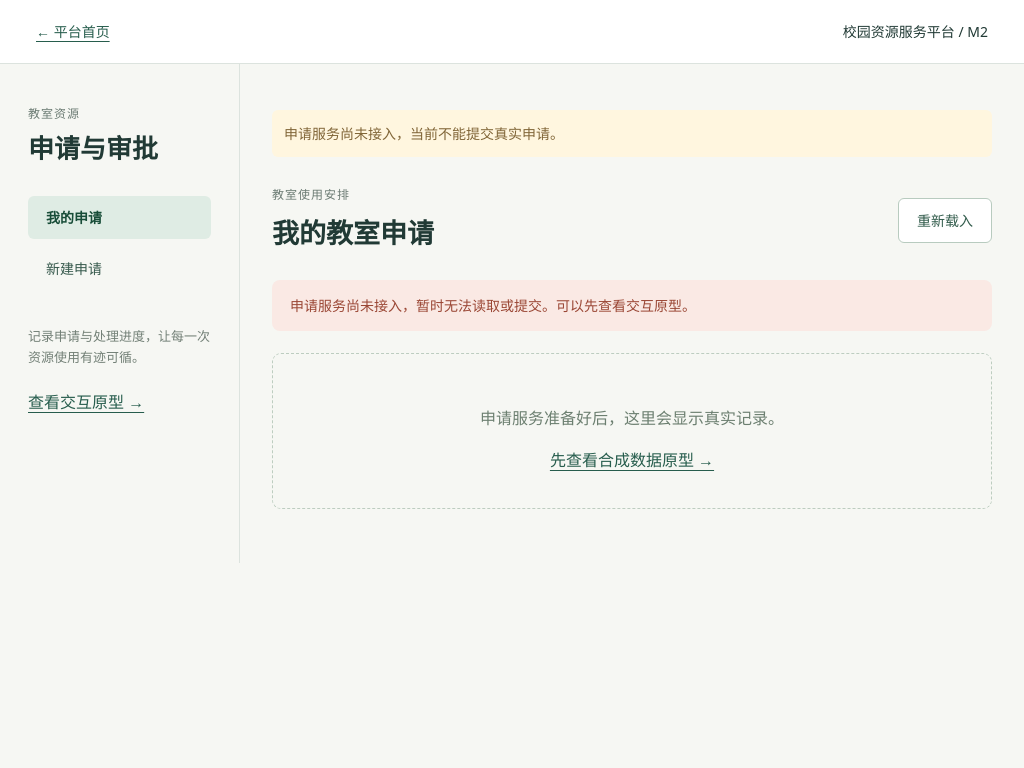
Scenario: M2 workspace observable behavior › does not silently fall back to fixtures when real integration is unconfigured
The width and height of the screenshot is (1024, 768).
Click the button "新建申请". click: (120, 268)
box: [28, 247, 211, 290]
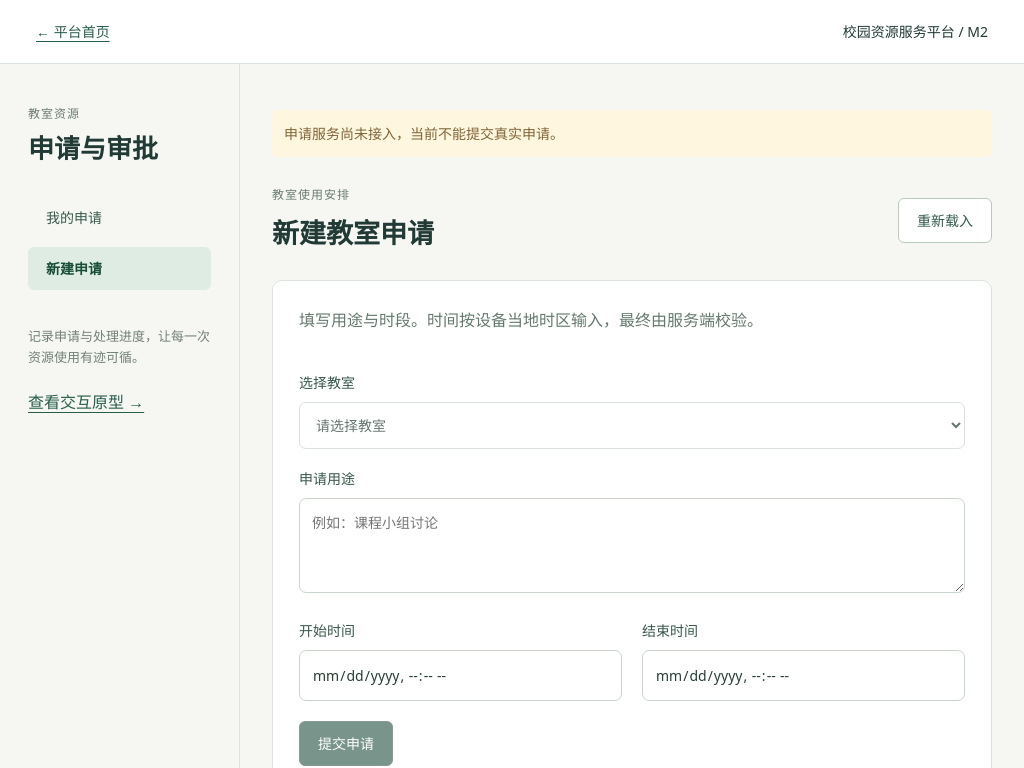
Now the submit button is disabled, box [299, 721, 393, 766]
